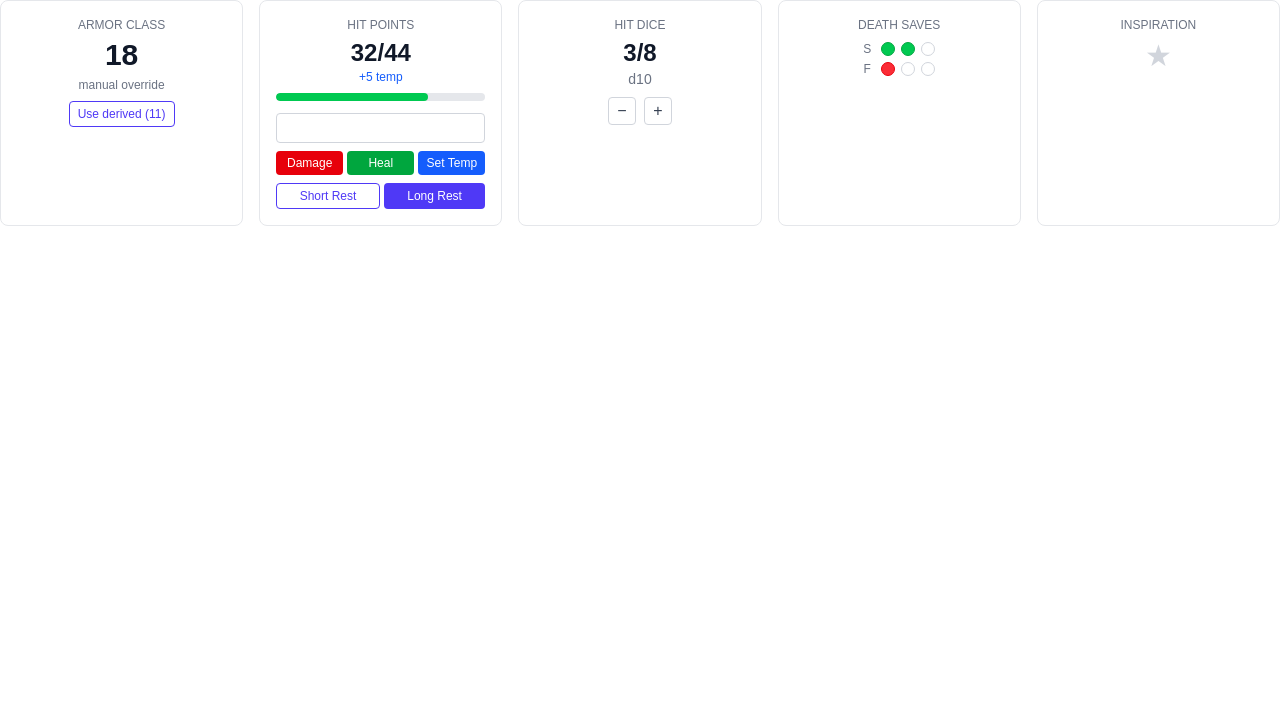
Scenario: CombatBar › play controls (owner) › opens the short-rest dialog rather than patching immediately
Click the button "Short Rest" at (328, 196), box [276, 183, 380, 209]
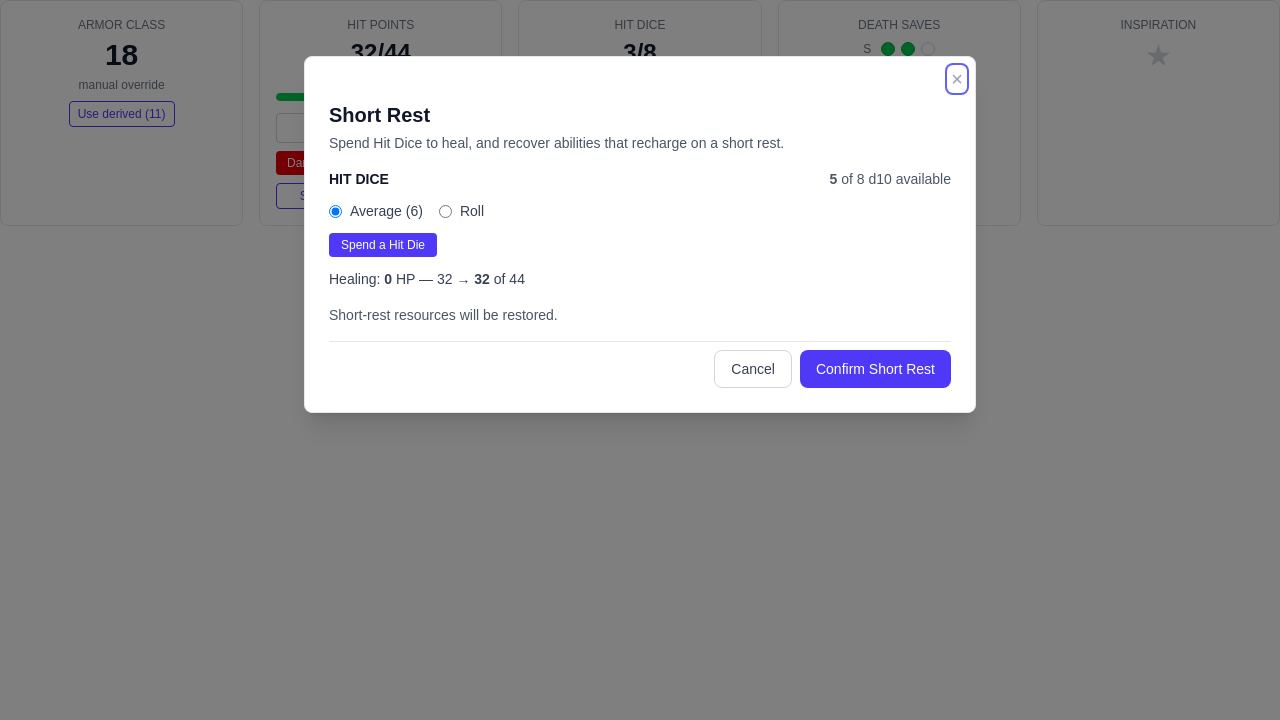
Check: the element with test id "short-rest-dialog" is shown
